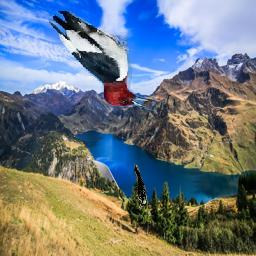Woodpecker: (46, 11, 156, 111), (132, 161, 149, 210)
